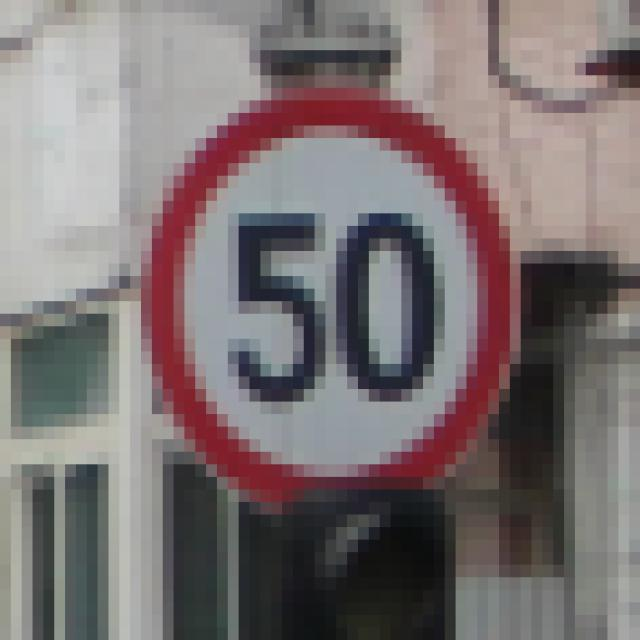Limite-50: (139, 85, 525, 511)
